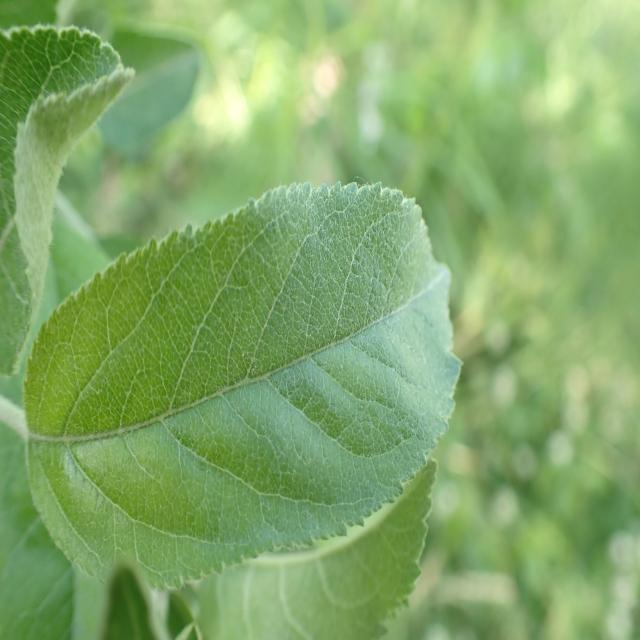healthy: (23, 180, 465, 594), (0, 23, 136, 380), (194, 456, 440, 640), (0, 394, 75, 639)
